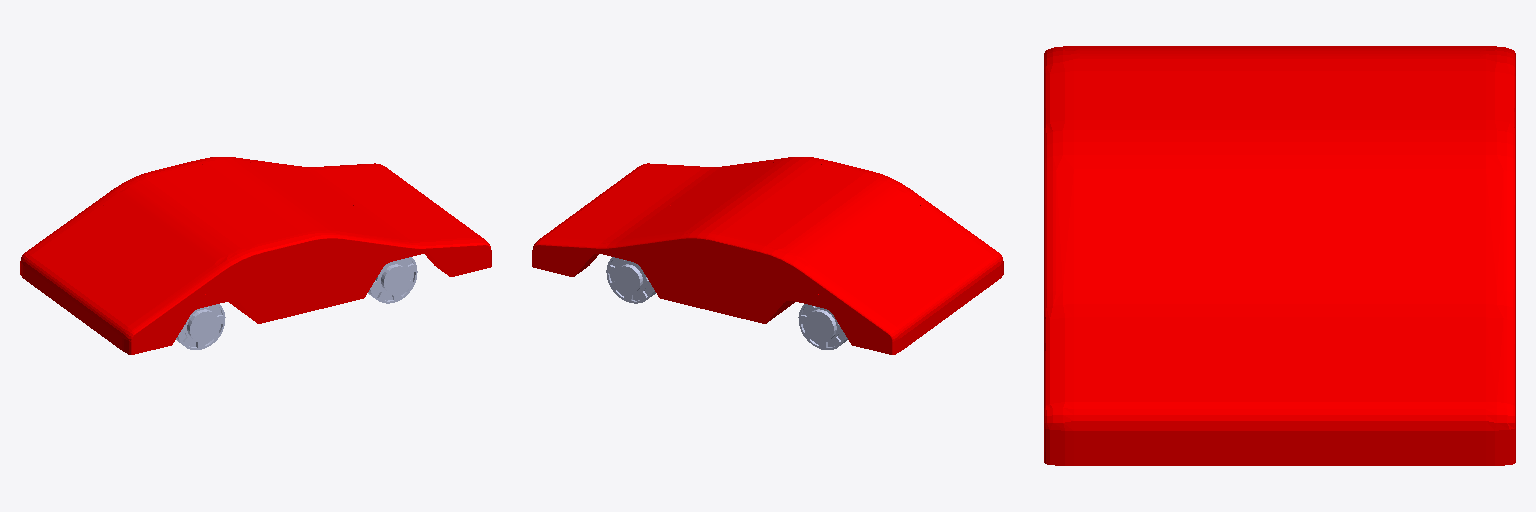
robot.urdf — vehicle_urdf_updated:
<?xml version="1.0" encoding="utf-8"?>
<robot
  name="vehicle_urdf_updated">
  <link
    name="base_link">
    <inertial>
      <origin
        xyz="0.633646238955482 0.380995985063104 0.134713561280758"
        rpy="0 0 0" />
      <mass
        value="40.8578739183061" />
      <inertia
        ixx="0.995761028354978"
        ixy="-8.76320048207689E-06"
        ixz="0.00865884640055963"
        iyy="2.14944321692204"
        iyz="1.27940269792283E-05"
        izz="2.95983860146672" />
    </inertial>
    <visual>
      <origin
        xyz="0 0 0"
        rpy="0 0 0" />
      <geometry>
        <mesh
          filename="package://vehicle_urdf_updated/meshes/base_link.STL" />
      </geometry>
      <material
        name="">
        <color
          rgba="1 0 0 1" />
      </material>
    </visual>
    <collision>
      <origin
        xyz="0 0 0"
        rpy="0 0 0" />
      <geometry>
        <mesh
          filename="package://vehicle_urdf_updated/meshes/base_link.STL" />
      </geometry>
    </collision>
  </link>
  <link
    name="rear_transmission">
    <inertial>
      <origin
        xyz="-0.203199999999985 5.82867087928207E-16 8.21565038222616E-15"
        rpy="0 0 0" />
      <mass
        value="1.62545461137797" />
      <inertia
        ixx="0.00275735422572006"
        ixy="-2.88882404288101E-18"
        ixz="9.55642867448498E-19"
        iyy="0.0414194977112141"
        iyz="9.24865283108885E-09"
        izz="0.0414191060690131" />
    </inertial>
    <visual>
      <origin
        xyz="0 0 0"
        rpy="0 0 0" />
      <geometry>
        <mesh
          filename="package://vehicle_urdf_updated/meshes/rear_transmission.STL" />
      </geometry>
      <material
        name="">
        <color
          rgba="0.792156862745098 0.819607843137255 0.933333333333333 1" />
      </material>
    </visual>
    <collision>
      <origin
        xyz="0 0 0"
        rpy="0 0 0" />
      <geometry>
        <mesh
          filename="package://vehicle_urdf_updated/meshes/rear_transmission.STL" />
      </geometry>
    </collision>
  </link>
  <joint
    name="rear_transmission_joint"
    type="continuous">
    <origin
      xyz="0.3556 0.1778 0.0635"
      rpy="-1.5708 0 -1.5708" />
    <parent
      link="base_link" />
    <child
      link="rear_transmission" />
    <axis
      xyz="1 0 0" />
  </joint>
  <link
    name="front_left_pivot">
    <inertial>
      <origin
        xyz="0.0419537233296554 0.0535456913177643 -1.79199277638986E-09"
        rpy="0 0 0" />
      <mass
        value="0.342307075044178" />
      <inertia
        ixx="0.000402629200989729"
        ixy="0.000289839368110352"
        ixz="-3.70439072569397E-11"
        iyy="0.000794160741830236"
        iyz="-6.47936725203429E-14"
        izz="0.00107762693577772" />
    </inertial>
    <visual>
      <origin
        xyz="0 0 0"
        rpy="0 0 0" />
      <geometry>
        <mesh
          filename="package://vehicle_urdf_updated/meshes/front_left_pivot.STL" />
      </geometry>
      <material
        name="">
        <color
          rgba="0.792156862745098 0.819607843137255 0.933333333333333 1" />
      </material>
    </visual>
    <collision>
      <origin
        xyz="0 0 0"
        rpy="0 0 0" />
      <geometry>
        <mesh
          filename="package://vehicle_urdf_updated/meshes/front_left_pivot.STL" />
      </geometry>
    </collision>
  </link>
  <joint
    name="front_left_pivot_joint"
    type="continuous">
    <origin
      xyz="0.8636 0.4572 0.030137"
      rpy="1.5708 0 1.5708" />
    <parent
      link="base_link" />
    <child
      link="front_left_pivot" />
    <axis
      xyz="0 1 0" />
  </joint>
  <link
    name="front_left_wheel">
    <inertial>
      <origin
        xyz="0.0253999999999999 -1.11022302462516E-16 2.77555756156289E-17"
        rpy="0 0 0" />
      <mass
        value="0.555000200309947" />
      <inertia
        ixx="0.001204932765174"
        ixy="7.58500037625292E-20"
        ixz="5.19358445636026E-20"
        iyy="0.000713183485157935"
        iyz="2.71050543121376E-20"
        izz="0.000713183485157934" />
    </inertial>
    <visual>
      <origin
        xyz="0 0 0"
        rpy="0 0 0" />
      <geometry>
        <mesh
          filename="package://vehicle_urdf_updated/meshes/front_left_wheel.STL" />
      </geometry>
      <material
        name="">
        <color
          rgba="0.792156862745098 0.819607843137255 0.933333333333333 1" />
      </material>
    </visual>
    <collision>
      <origin
        xyz="0 0 0"
        rpy="0 0 0" />
      <geometry>
        <mesh
          filename="package://vehicle_urdf_updated/meshes/front_left_wheel.STL" />
      </geometry>
    </collision>
  </link>
  <joint
    name="front_left_wheel_joint"
    type="continuous">
    <origin
      xyz="0.0635 0.033363 0"
      rpy="1.432 0 0" />
    <parent
      link="front_left_pivot" />
    <child
      link="front_left_wheel" />
    <axis
      xyz="1 0 0" />
  </joint>
  <link
    name="front_right_pivot">
    <inertial>
      <origin
        xyz="0.0419537233296554 -0.0535456913177643 1.79199277638986E-09"
        rpy="0 0 0" />
      <mass
        value="0.342307075044179" />
      <inertia
        ixx="0.000402629200989729"
        ixy="-0.000289839368110352"
        ixz="3.70439077980642E-11"
        iyy="0.000794160741830237"
        iyz="-6.47936358096042E-14"
        izz="0.00107762693577773" />
    </inertial>
    <visual>
      <origin
        xyz="0 0 0"
        rpy="0 0 0" />
      <geometry>
        <mesh
          filename="package://vehicle_urdf_updated/meshes/front_right_pivot.STL" />
      </geometry>
      <material
        name="">
        <color
          rgba="0.792156862745098 0.819607843137255 0.933333333333333 1" />
      </material>
    </visual>
    <collision>
      <origin
        xyz="0 0 0"
        rpy="0 0 0" />
      <geometry>
        <mesh
          filename="package://vehicle_urdf_updated/meshes/front_right_pivot.STL" />
      </geometry>
    </collision>
  </link>
  <joint
    name="front_right_pivot_joint"
    type="continuous">
    <origin
      xyz="0.8636 0.3048 0.030137"
      rpy="-1.5708 0 -1.5708" />
    <parent
      link="base_link" />
    <child
      link="front_right_pivot" />
    <axis
      xyz="0 1 0" />
  </joint>
  <link
    name="front_right_wheel">
    <inertial>
      <origin
        xyz="-0.0254 1.11022302462516E-16 -1.11022302462516E-16"
        rpy="0 0 0" />
      <mass
        value="0.555000200309947" />
      <inertia
        ixx="0.001204932765174"
        ixy="4.1822253051509E-20"
        ixz="-7.14033442007878E-20"
        iyy="0.000713183485157937"
        iyz="-1.35525271560688E-19"
        izz="0.000713183485157937" />
    </inertial>
    <visual>
      <origin
        xyz="0 0 0"
        rpy="0 0 0" />
      <geometry>
        <mesh
          filename="package://vehicle_urdf_updated/meshes/front_right_wheel.STL" />
      </geometry>
      <material
        name="">
        <color
          rgba="0.792156862745098 0.819607843137255 0.933333333333333 1" />
      </material>
    </visual>
    <collision>
      <origin
        xyz="0 0 0"
        rpy="0 0 0" />
      <geometry>
        <mesh
          filename="package://vehicle_urdf_updated/meshes/front_right_wheel.STL" />
      </geometry>
    </collision>
  </link>
  <joint
    name="front_right_wheel_joint"
    type="continuous">
    <origin
      xyz="0.0635 -0.033363 0"
      rpy="2.1463 0 3.1416" />
    <parent
      link="front_right_pivot" />
    <child
      link="front_right_wheel" />
    <axis
      xyz="1 0 0" />
  </joint>
</robot>

--- Render facts (derived) ---
Views: 3 orthographic renders of the robot side by side, from view 1: azimuth 30°, elevation 25°; view 2: azimuth 150°, elevation 25°; view 3: azimuth 270°, elevation 25°.
Robot: vehicle_urdf_updated — 6 links, 5 joints (5 continuous); root link base_link; default pose: every joint at zero.
Links seen in each view (by area): view 1: base_link, rear_transmission, front_right_wheel, front_right_pivot; view 2: base_link, rear_transmission, front_left_wheel, front_left_pivot; view 3: base_link.
Link boxes in pixels (<box>): base_link: <box>20,157,491,354</box>; rear_transmission: <box>176,304,225,349</box>; front_right_wheel: <box>368,257,417,303</box>; front_right_pivot: <box>381,264,408,292</box>; base_link: <box>532,157,1003,354</box>; rear_transmission: <box>798,304,847,349</box>; front_left_wheel: <box>606,257,655,303</box>; front_left_pivot: <box>615,264,642,292</box>; base_link: <box>1044,46,1515,465</box>.
Size in the robot's own frame: 0.9652 by 0.508 by 0.2492 metres.
6 mesh visuals loaded from 6 distinct referenced files (6 binary STL).